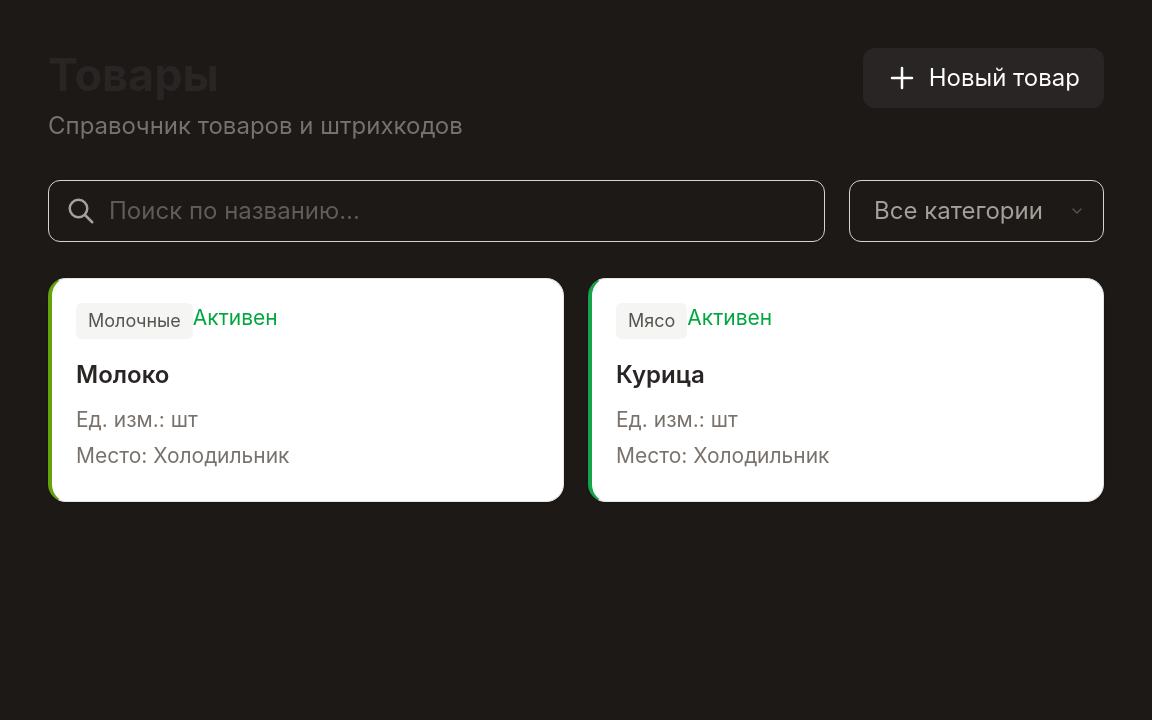
ProductsPage › opens add modal when button clicked
The image size is (1152, 720).
Expected: the heading "Молоко" is shown, [76, 357, 169, 393]
Click add button
Click the button "Новый товар".
click(983, 78)  # box [863, 48, 1104, 108]
(page scrolled)
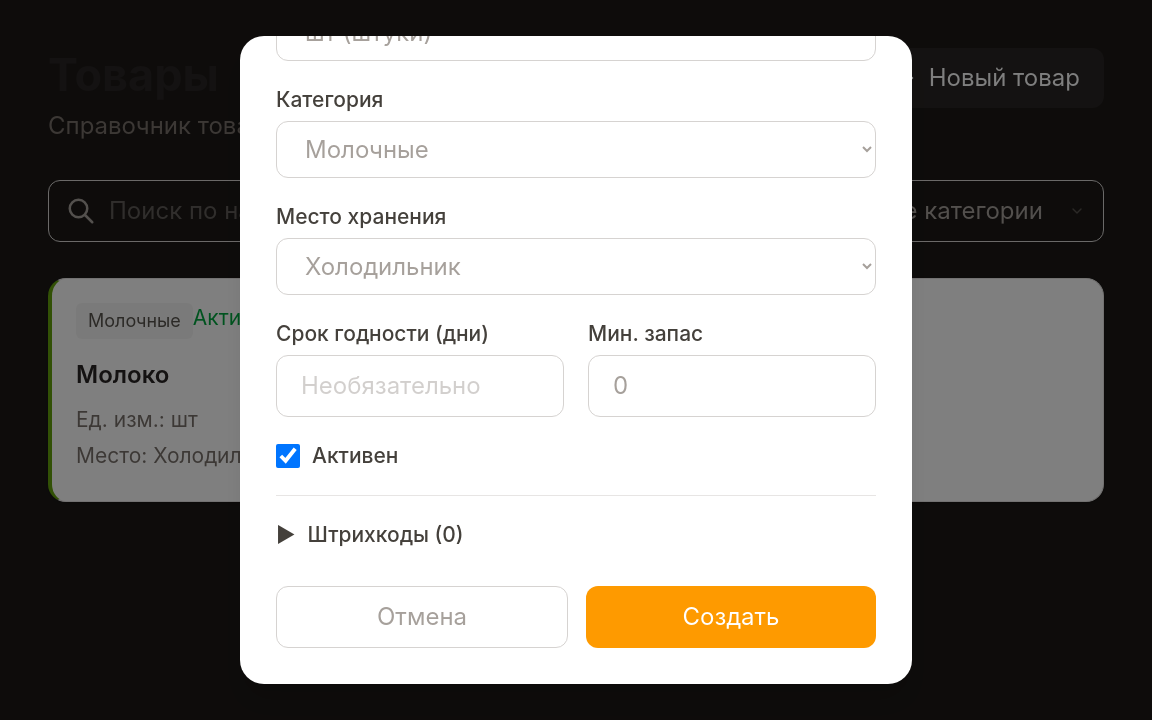
Expected: the button "Создать" is shown, [586, 586, 876, 648]
